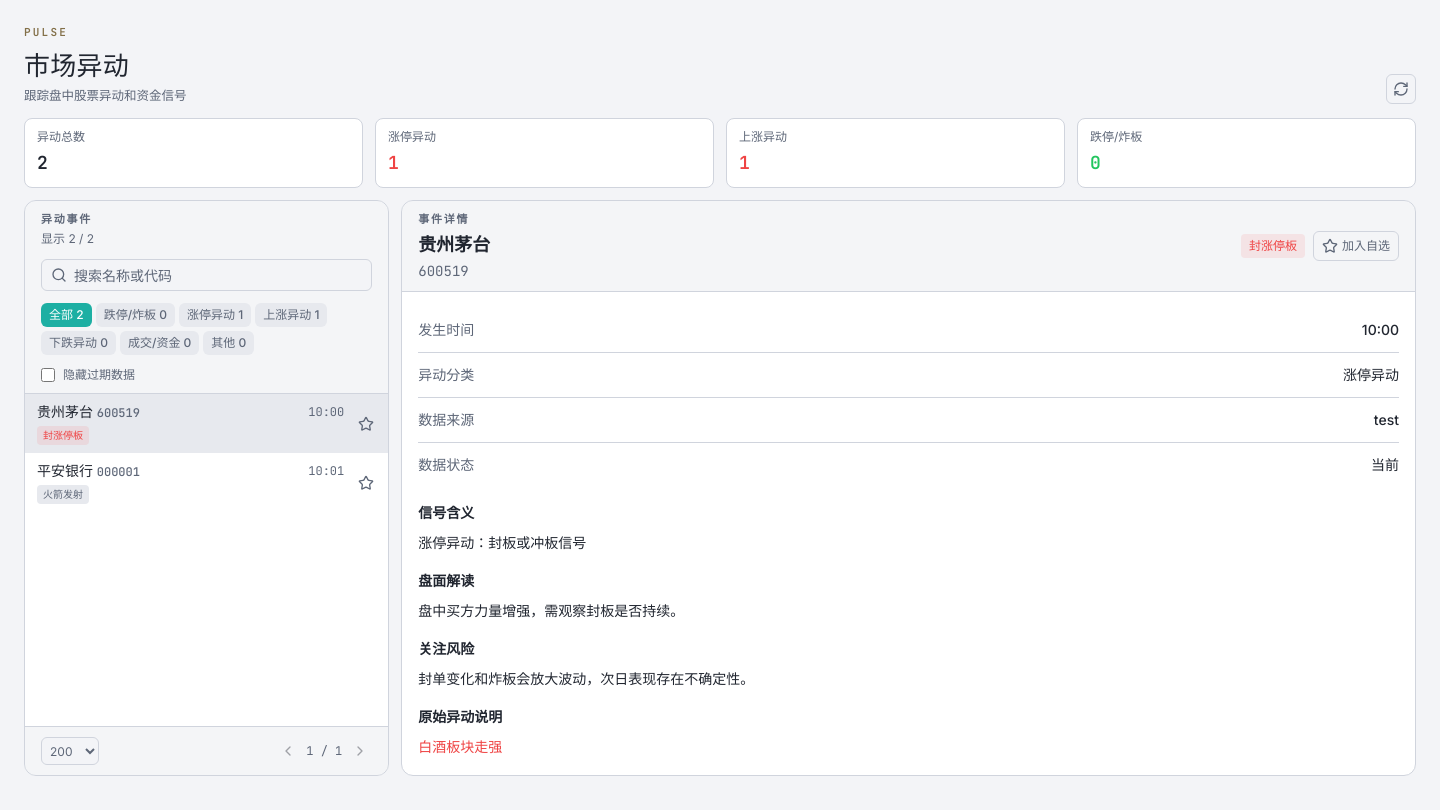
MarketPulsePanel › updates selected-event detail when a different list row is selected
Click the button "平安银行 000001 10:01 火箭发射" at [65, 471], box [33,453,348,512]
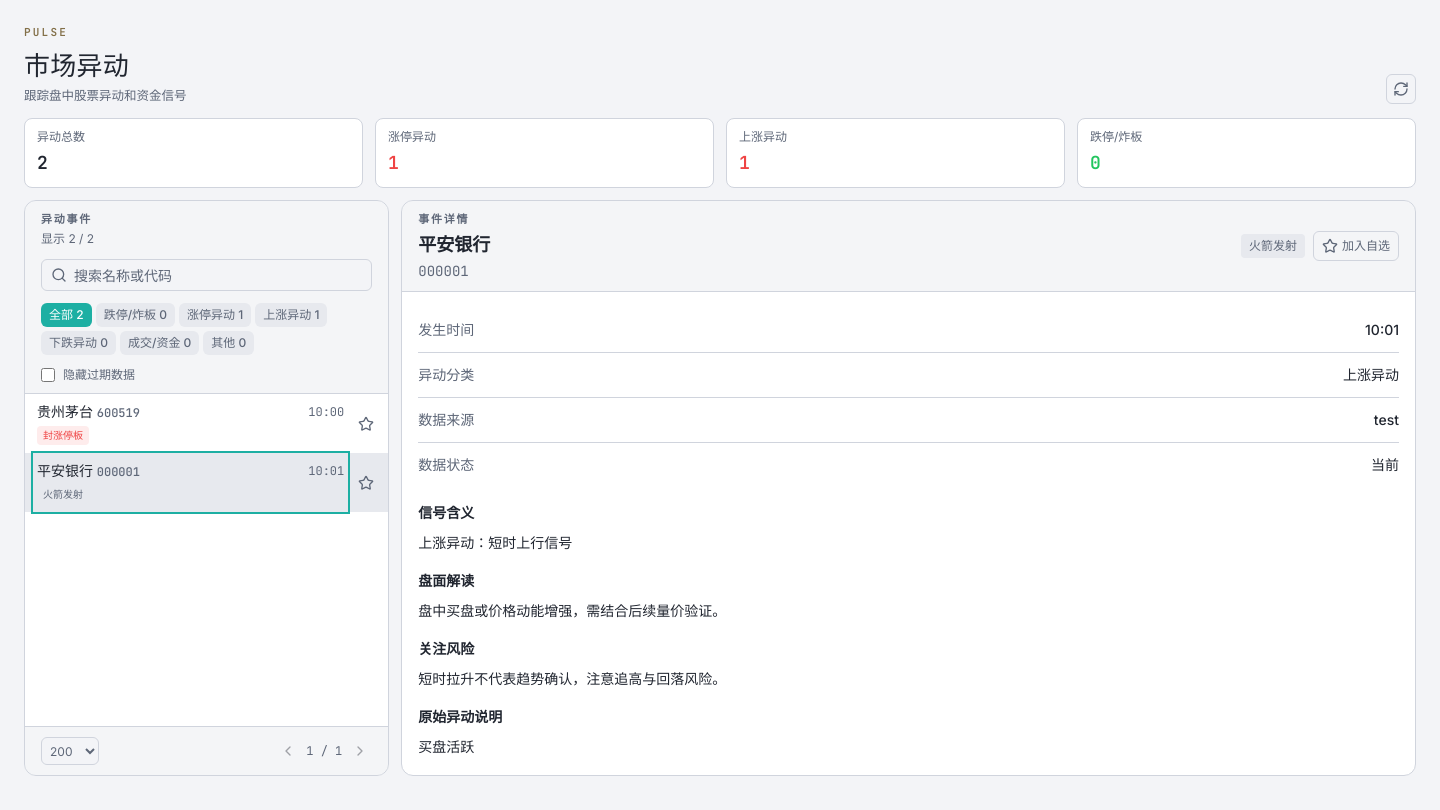
Check: the heading "平安银行" is shown, box [418,231,490,259]
